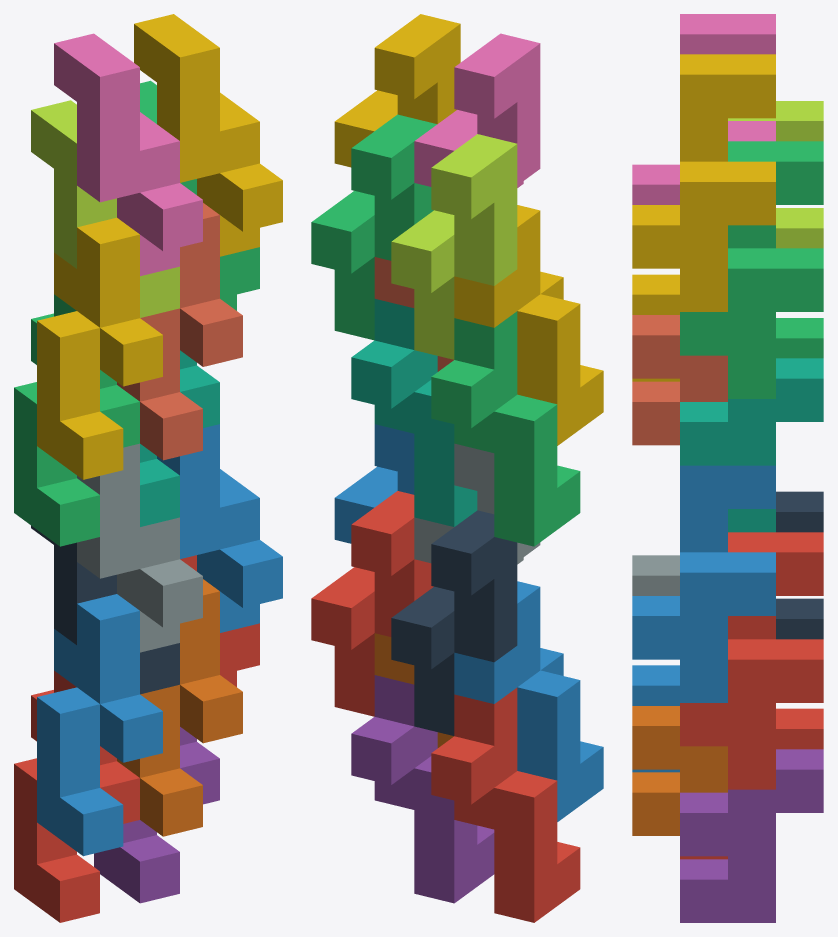
The model's file is tiling.obj.
3 renders of one model, left to right at view 1: azimuth 30°, elevation 25°; view 2: azimuth 150°, elevation 25°; view 3: azimuth 270°, elevation 25°, orthographic. The views are drawn at different scales.
Visible parts, largest first — view 1: copy_1_domain_2, copy_1_domain_4, copy_2_domain_4, copy_2_domain_8, copy_2_domain_6, copy_1_domain_6, copy_1_domain_8, copy_2_domain_2, copy_1_domain_1, copy_1_domain_3, copy_2_domain_3, copy_1_domain_5 (+4 smaller); view 2: copy_1_domain_3, copy_1_domain_1, copy_2_domain_3, copy_2_domain_1, copy_1_domain_5, copy_2_domain_7, copy_1_domain_2, copy_1_domain_4, copy_2_domain_5, copy_1_domain_7, copy_2_domain_4, copy_2_domain_8 (+4 smaller); view 3: copy_2_domain_8, copy_2_domain_6, copy_2_domain_5, copy_2_domain_7, copy_1_domain_5, copy_1_domain_7, copy_1_domain_8, copy_1_domain_6, copy_2_domain_4, copy_2_domain_3, copy_2_domain_1, copy_1_domain_1 (+4 smaller).
Part boxes in pixels (x1,y1,x2,y2): copy_1_domain_2: (37, 594, 162, 856); copy_1_domain_4: (37, 217, 162, 479); copy_2_domain_4: (54, 33, 202, 276); copy_2_domain_8: (134, 14, 282, 256); copy_2_domain_6: (157, 424, 282, 632); copy_1_domain_6: (117, 579, 242, 836); copy_1_domain_8: (117, 203, 242, 460); copy_2_domain_2: (77, 443, 202, 652); copy_1_domain_1: (14, 670, 139, 922); copy_1_domain_3: (14, 294, 139, 546); copy_2_domain_3: (31, 100, 179, 317); copy_1_domain_5: (94, 727, 219, 903); copy_1_domain_3: (431, 311, 580, 546); copy_1_domain_1: (431, 688, 580, 922); copy_2_domain_3: (391, 134, 517, 359); copy_2_domain_1: (391, 510, 517, 735); copy_1_domain_5: (351, 675, 494, 903); copy_2_domain_7: (311, 114, 436, 340); copy_1_domain_2: (454, 581, 603, 821); copy_1_domain_4: (454, 205, 603, 445); copy_2_domain_5: (311, 491, 433, 716); copy_1_domain_7: (351, 299, 477, 526); copy_2_domain_4: (414, 33, 540, 187); copy_2_domain_8: (334, 14, 460, 167); copy_2_domain_8: (632, 54, 775, 311); copy_2_domain_6: (632, 465, 775, 702); copy_2_domain_5: (680, 532, 823, 789); copy_2_domain_7: (680, 141, 823, 398); copy_1_domain_5: (680, 749, 823, 922); copy_1_domain_7: (680, 358, 823, 532); copy_1_domain_8: (632, 315, 727, 445); copy_1_domain_6: (632, 706, 727, 835); copy_2_domain_4: (632, 14, 775, 204); copy_2_domain_3: (728, 101, 823, 248); copy_2_domain_1: (776, 491, 823, 639); copy_1_domain_1: (680, 708, 823, 859).
Size of the model in its own units: 5 by 20 by 4.
